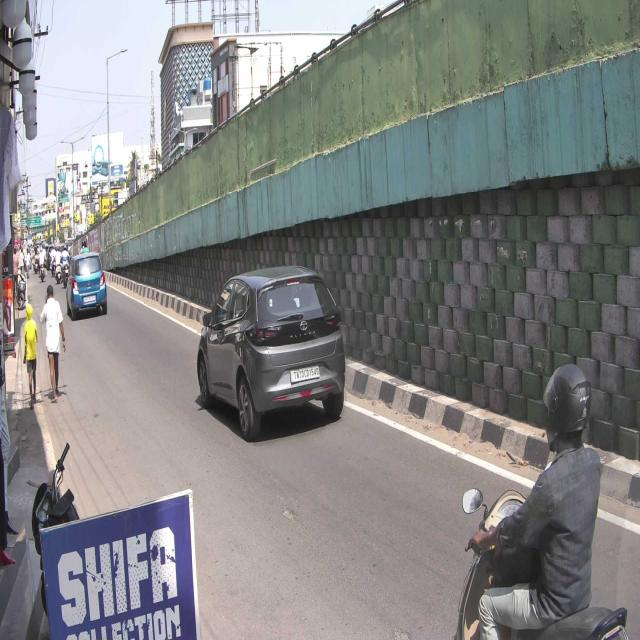single_rider: (450, 360, 633, 640)
